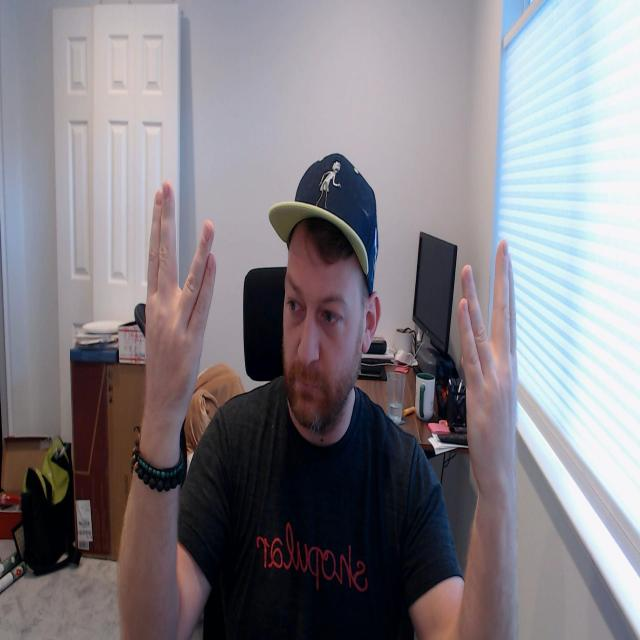face: (281, 228, 368, 436)
